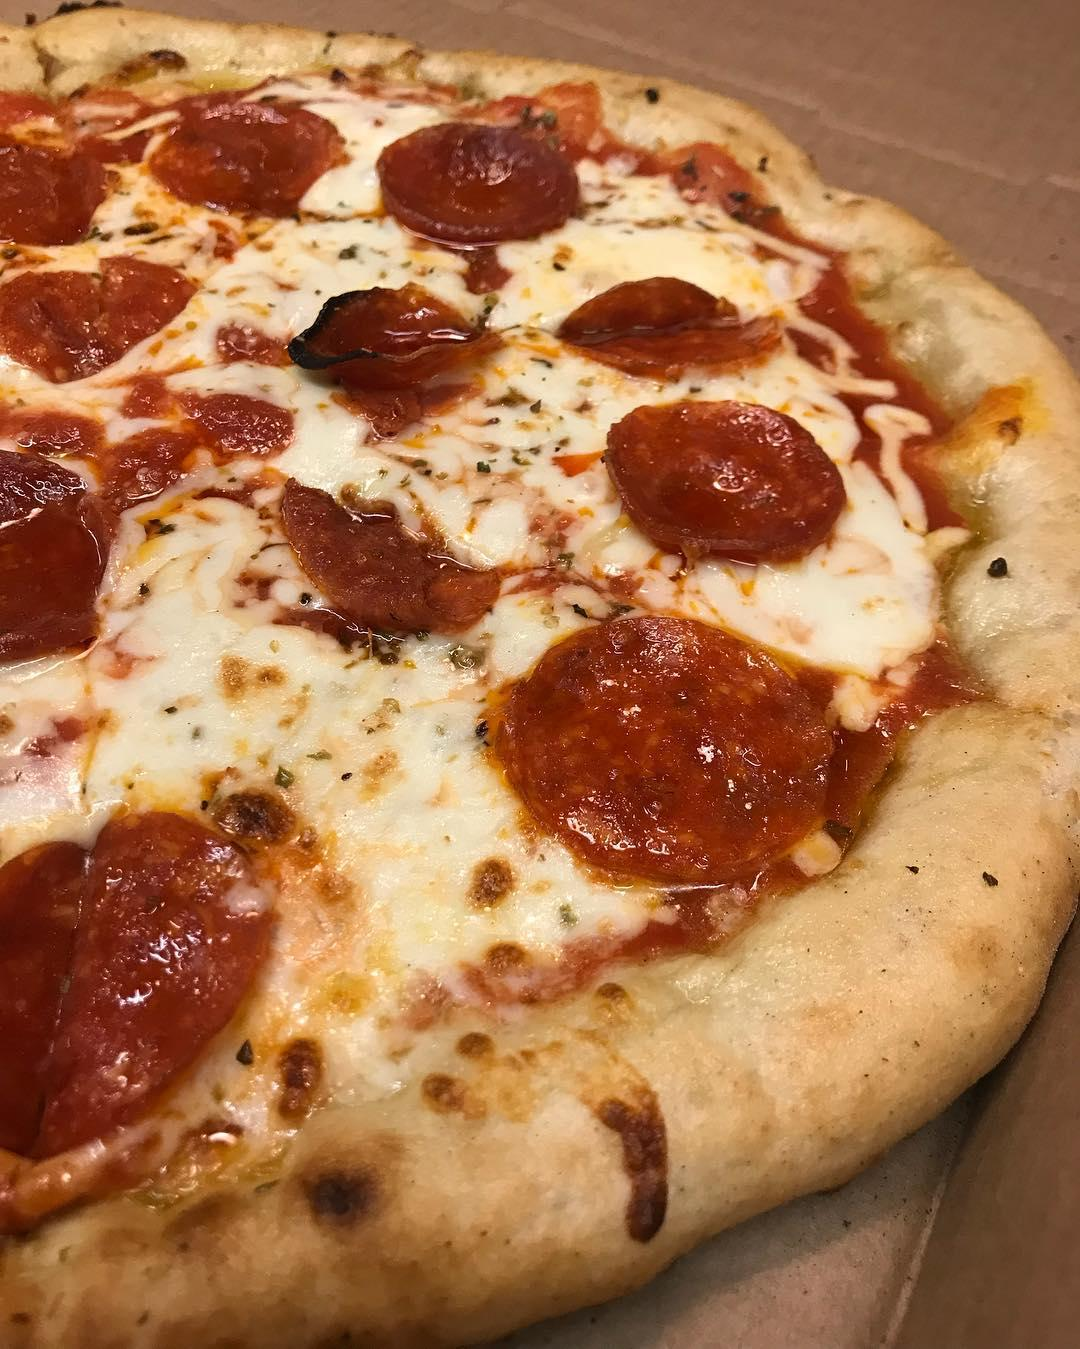Cheese: (306, 661, 505, 1006), (19, 630, 314, 810), (691, 538, 941, 677), (301, 401, 609, 499), (193, 206, 382, 316), (145, 511, 288, 643), (553, 196, 765, 283), (316, 90, 400, 206)
Pepperoni: (487, 614, 894, 871), (3, 818, 284, 1147), (607, 408, 849, 551), (285, 274, 500, 424), (271, 494, 494, 637), (377, 117, 579, 242), (0, 450, 114, 650), (3, 256, 191, 370), (158, 90, 326, 216), (568, 271, 771, 373), (0, 104, 120, 237)
Pizza: (8, 24, 1080, 1349)
